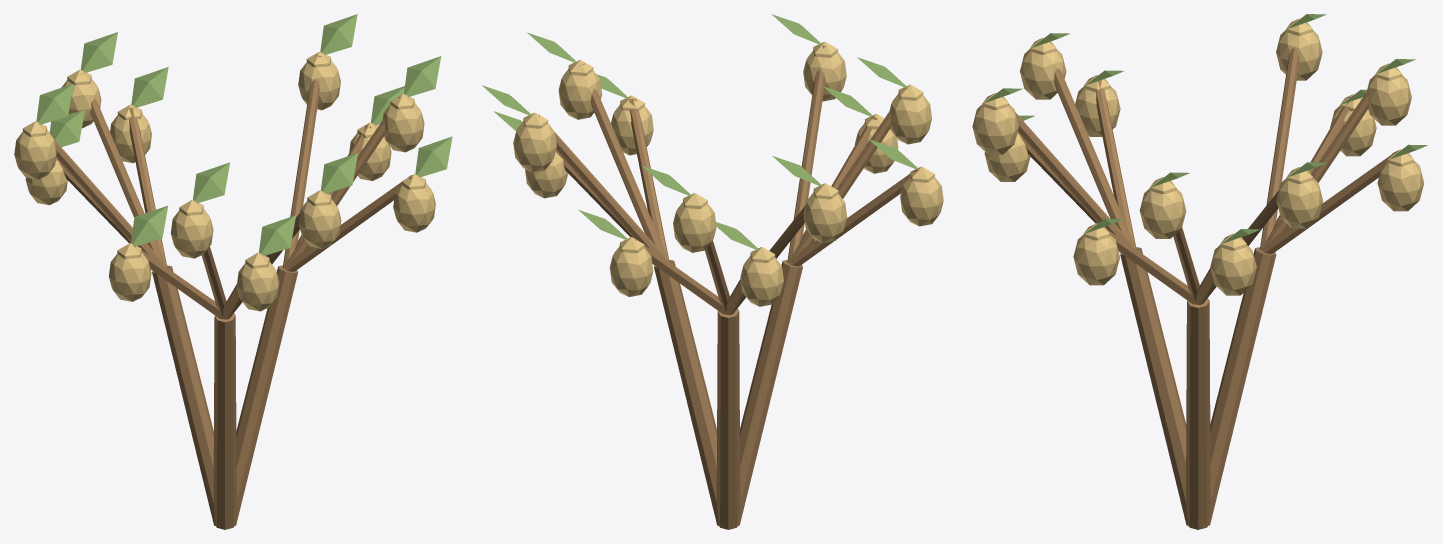
The picture shows the model from 3 angles, left to right: view 1: azimuth 30°, elevation 25°; view 2: azimuth 150°, elevation 25°; view 3: azimuth 270°, elevation 25°; orthographic projection. The views are drawn at different scales.
Parts seen in each view (by area): view 1: GF-154 Low quince fruit tree batched; view 2: GF-154 Low quince fruit tree batched; view 3: GF-154 Low quince fruit tree batched.
Boxes of the visible parts, box(x1,y1,x2,y2) form: GF-154 Low quince fruit tree batched: box(14, 14, 452, 529); GF-154 Low quince fruit tree batched: box(481, 14, 943, 529); GF-154 Low quince fruit tree batched: box(972, 14, 1427, 529).
Bounding box in the file's own units: 1.45 × 1.61 × 1.46.
